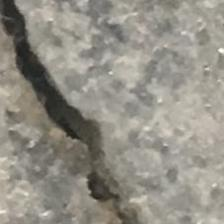Crack: (3, 0, 186, 224)
